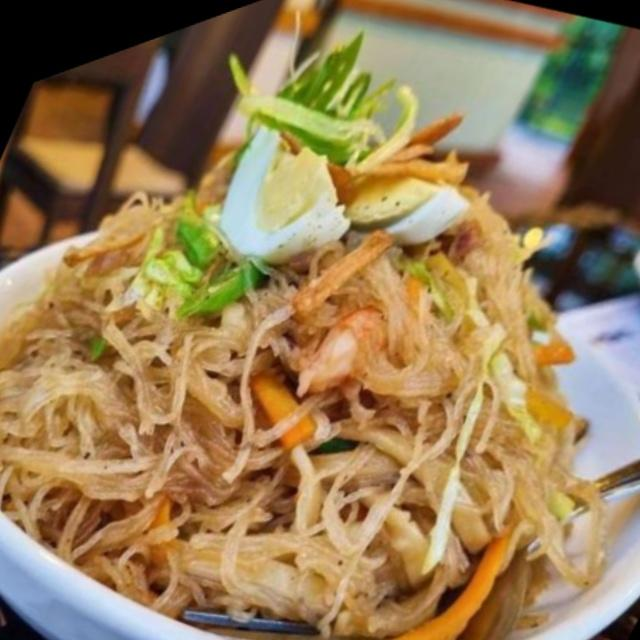pancit bihon: (8, 200, 567, 639)
